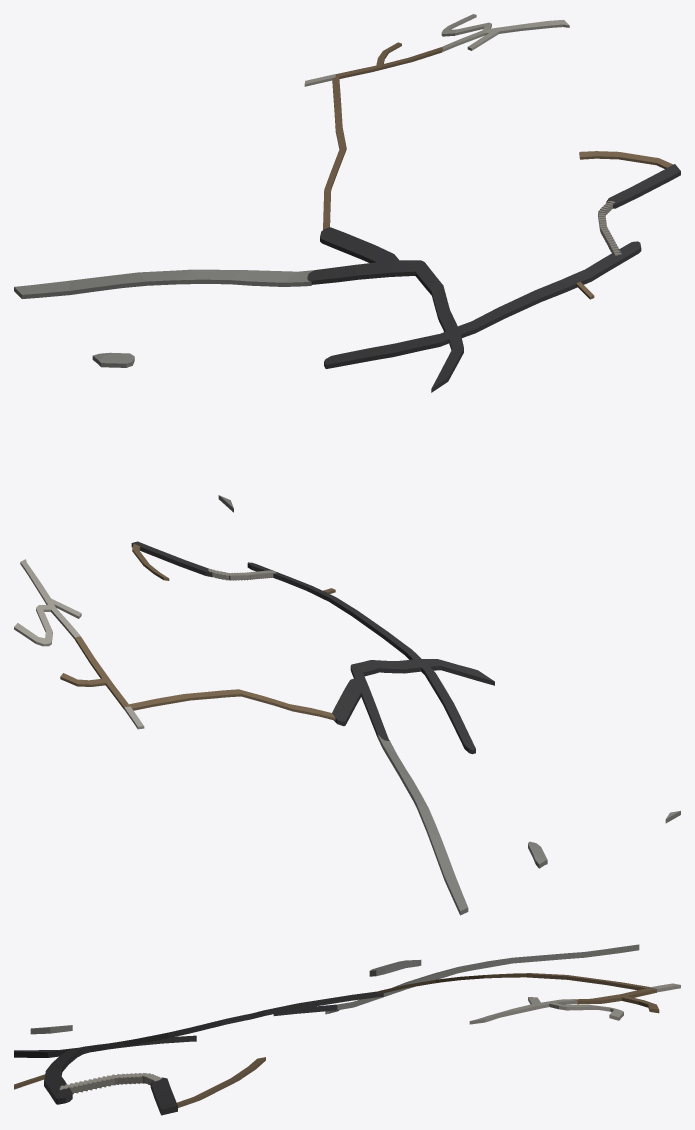
3 views of the same model, one above another, from view 1: azimuth 30°, elevation 25°; view 2: azimuth 150°, elevation 25°; view 3: azimuth 270°, elevation 25° (orthographic). The views are drawn at different scales.
Size of the model in its own units: 147 by 71.55 by 124.
